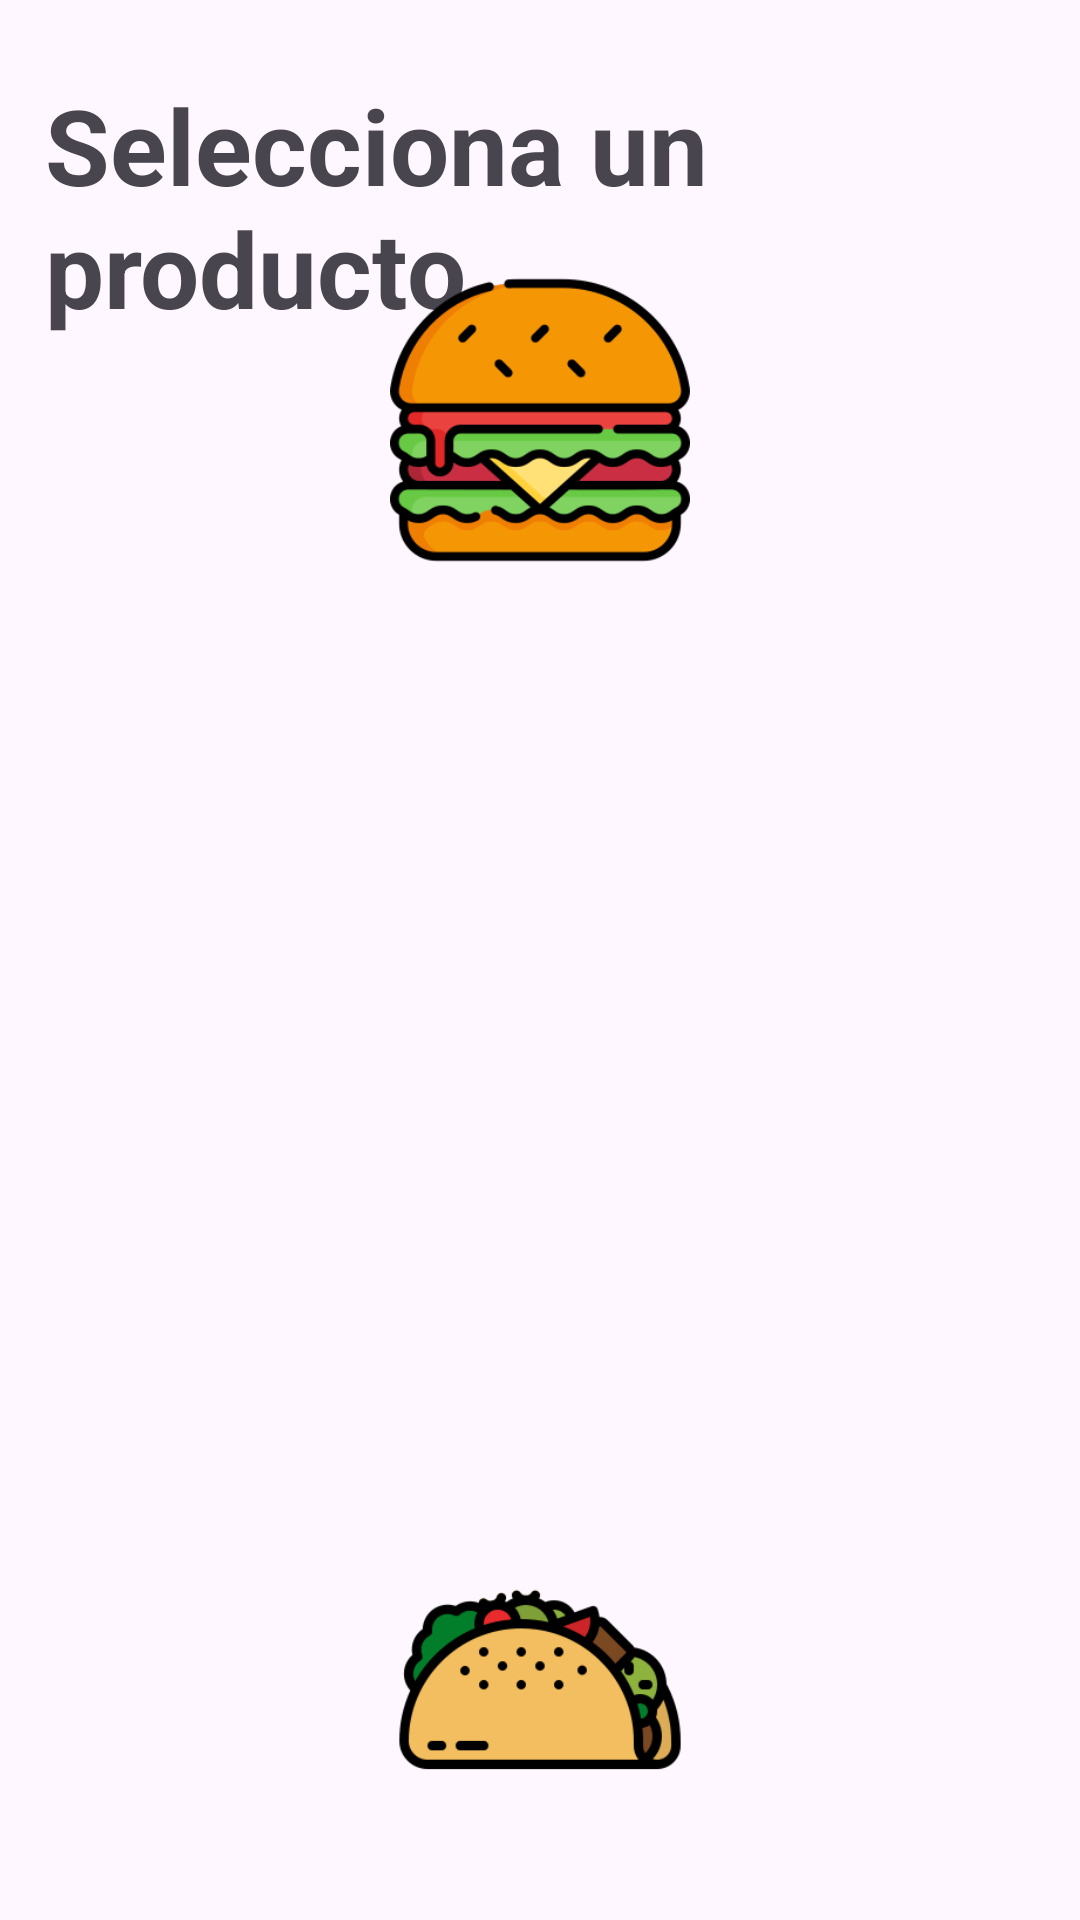

Where to tap for icons on this 1080px×1920px app screen, as (x,y):
hamburguer: (540,416)
taco: (540,1679)
